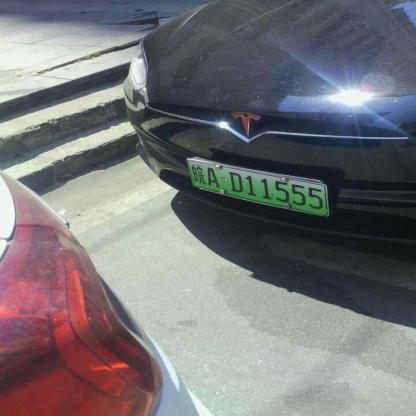lp: (187, 158, 328, 214)
